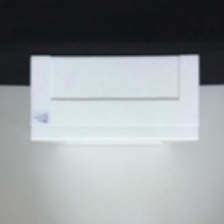foam_box: (24, 50, 205, 149)
